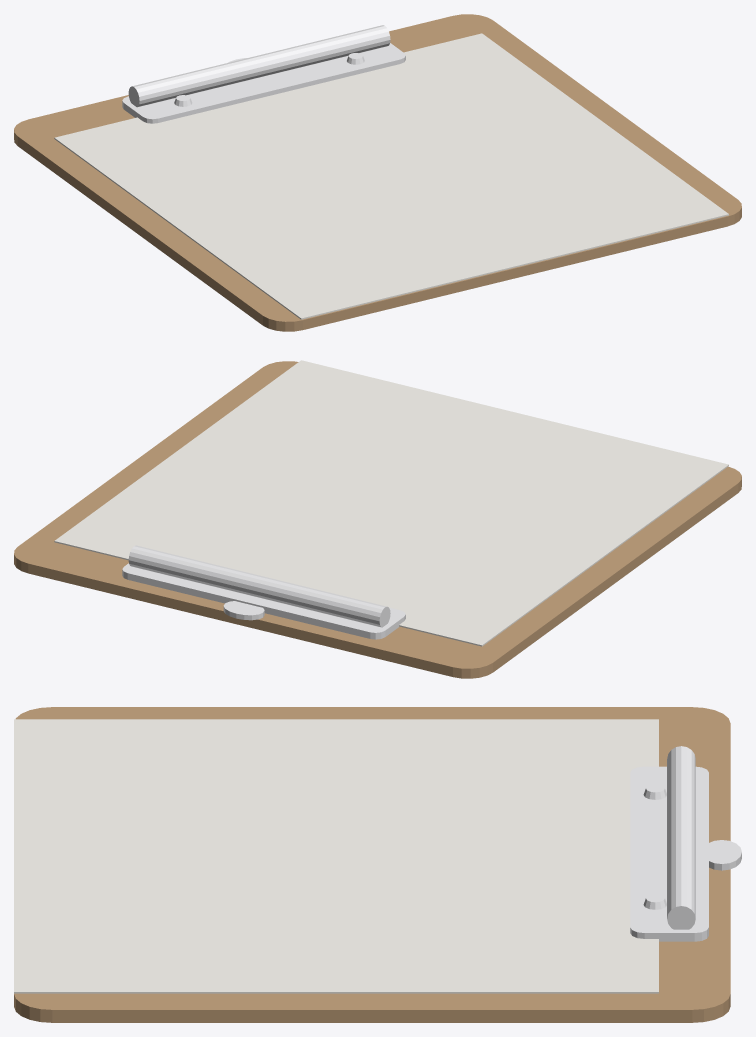
Rendered from Clipboard.fbx.
3 views of the same model, one above another, from view 1: azimuth 30°, elevation 25°; view 2: azimuth 150°, elevation 25°; view 3: azimuth 270°, elevation 25° (orthographic). The views are drawn at different scales.
Parts seen in each view (by area): view 1: Paper, Board, ClipBar, ClipPlate; view 2: Paper, Board, ClipBar, ClipPlate, ClipHinge; view 3: Paper, Board, ClipPlate, ClipBar, ClipHinge.
Boxes of the visible parts, x1,y1,x2,y2 form: Paper: (54,33,728,319); Board: (14,14,741,331); ClipBar: (128,25,390,107); ClipPlate: (122,43,405,123); Paper: (54,360,728,646); Board: (14,361,741,678); ClipBar: (128,545,390,627); ClipPlate: (122,563,405,639); ClipHinge: (223,601,264,620); Paper: (14,719,658,993); Board: (14,707,730,1022); ClipPlate: (630,766,708,941); ClipBar: (667,746,695,929); ClipHinge: (709,840,741,870).
Bounding box in the file's own units: 0.3 × 0.021 × 0.3048.
